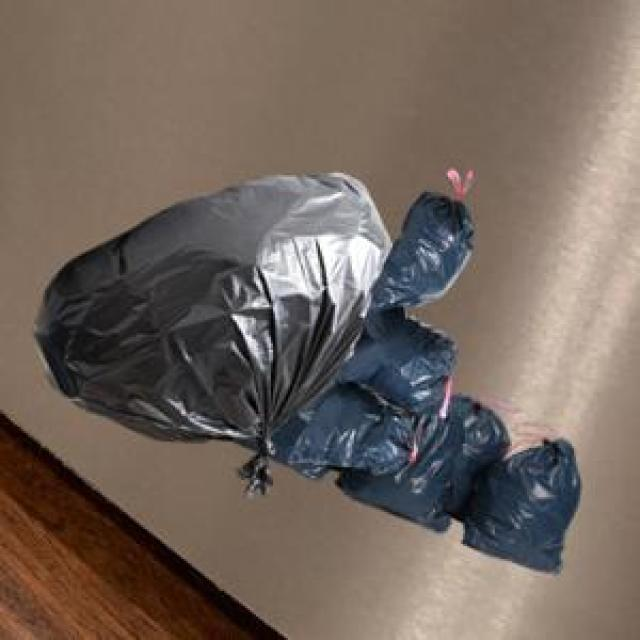Trashbag: (30, 163, 305, 460), (471, 432, 586, 576), (368, 184, 480, 320), (335, 313, 466, 412), (288, 391, 417, 477)
